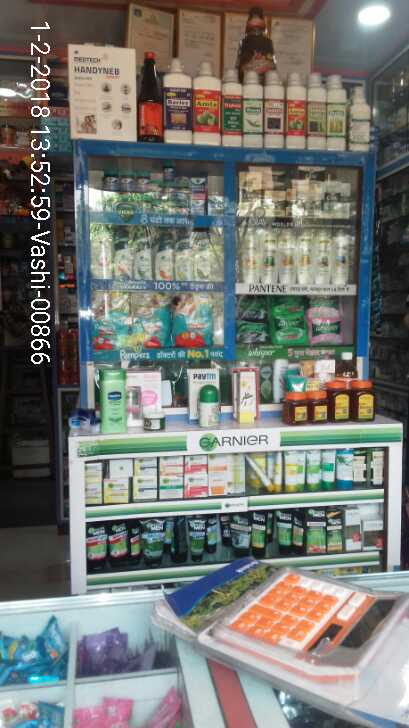beauty: (237, 168, 262, 219), (330, 227, 350, 288), (277, 227, 298, 283), (241, 229, 259, 282), (299, 227, 315, 285), (315, 226, 331, 284), (112, 239, 133, 281), (262, 228, 278, 283), (134, 240, 154, 282), (156, 239, 174, 281), (173, 243, 192, 282), (262, 189, 285, 219), (300, 166, 327, 191), (193, 238, 208, 281), (322, 200, 348, 220)
pharmacy: (171, 292, 215, 350), (131, 289, 172, 350), (91, 293, 130, 349), (270, 312, 309, 346), (307, 315, 344, 345), (236, 318, 271, 343), (119, 170, 135, 194), (102, 170, 119, 192), (135, 172, 150, 192), (189, 197, 205, 214), (191, 178, 205, 195), (163, 160, 174, 181)
